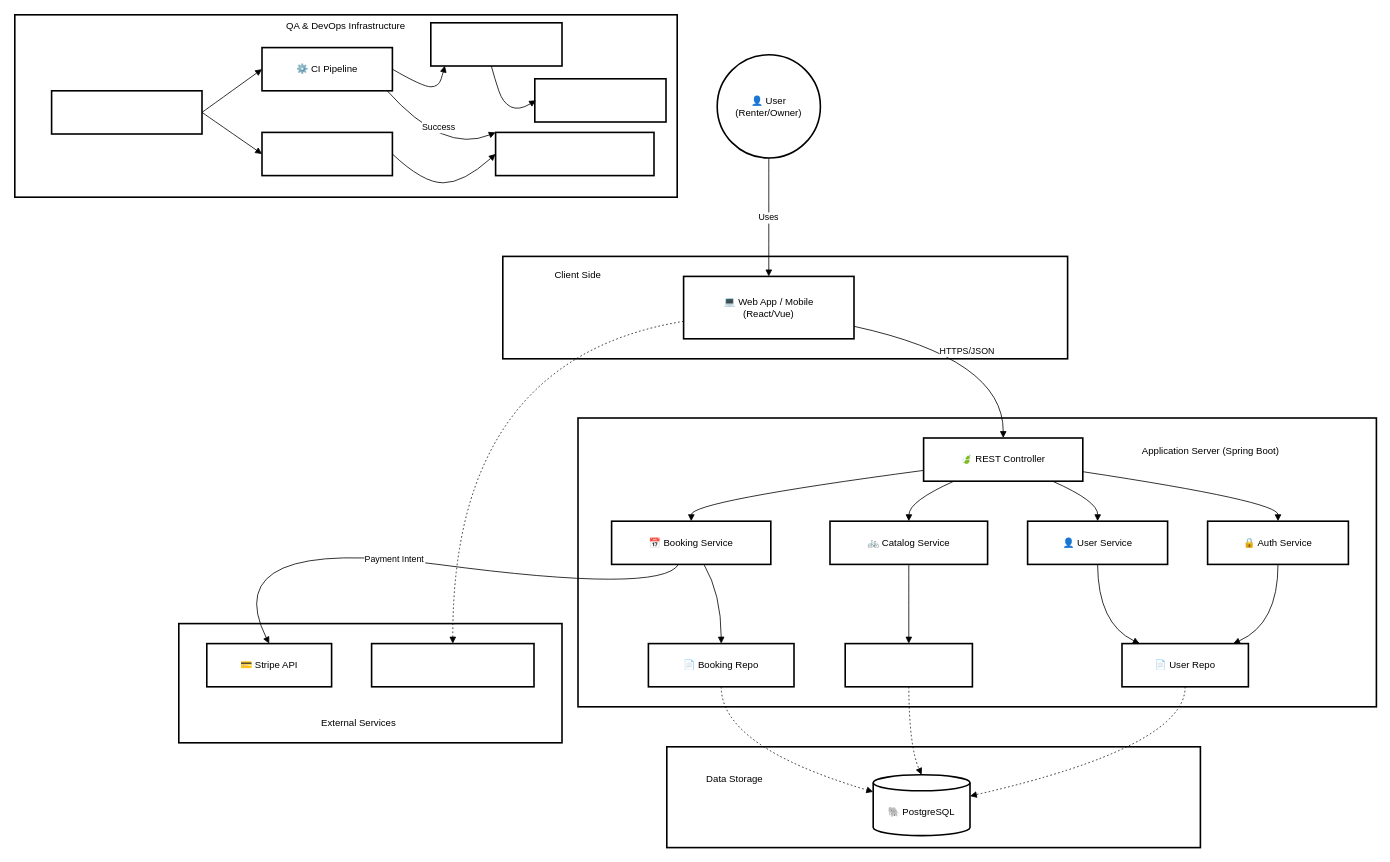
This 1390x862 diagram has some shape labels left out. Here are the shapes that lost their labels. From the top down, the centre of each, then its label:
(496,44): ⚙️ Build & Test
(126,112): 🦊 Git Repository
(600,100): 📡 SonarQube
(327,153): ⚙️ CD Pipeline
(574,153): 🐳 Docker Registry
(452,664): 📍 Google Maps API
(908,664): 📄 Item Repo
